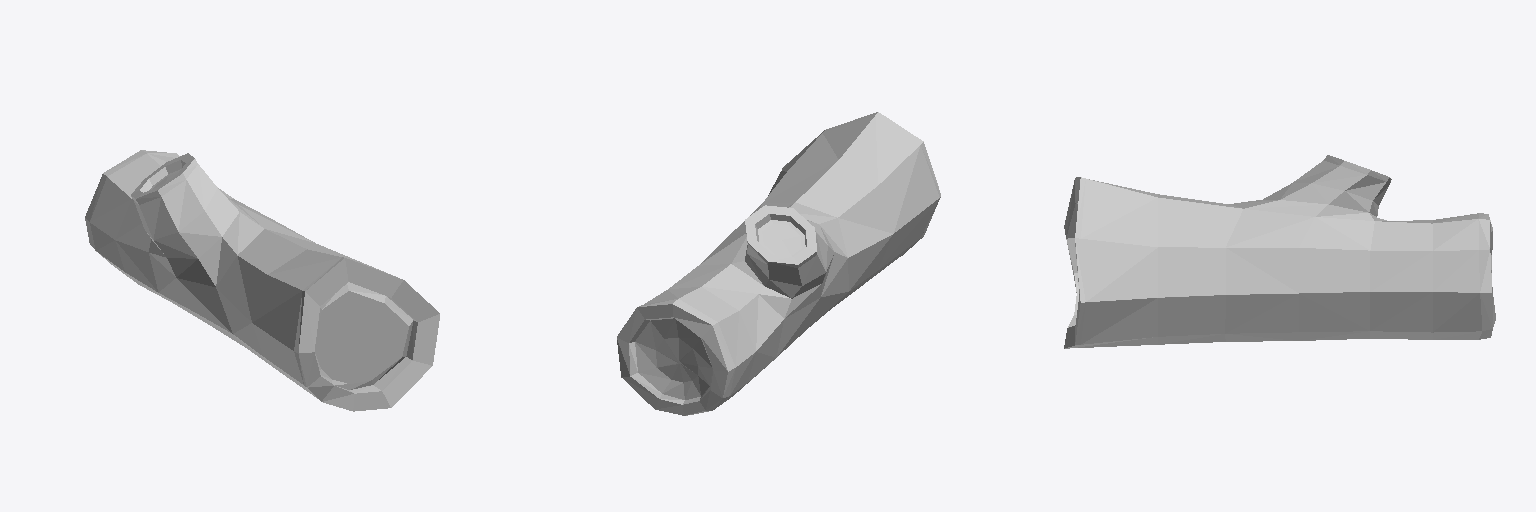
File: Tronco_Colider.obj
3 views of the same model, side by side, from view 1: azimuth 30°, elevation 25°; view 2: azimuth 150°, elevation 25°; view 3: azimuth 270°, elevation 25° (orthographic).
Visible parts, largest first — view 1: Box001; view 2: Box001; view 3: Box001.
Part boxes in pixels (x1,y1,x2,y2): Box001: (85,150,439,411); Box001: (617,112,940,415); Box001: (1064,155,1495,348).
Bounding box in the file's own units: 42.4 × 38.82 × 93.52.